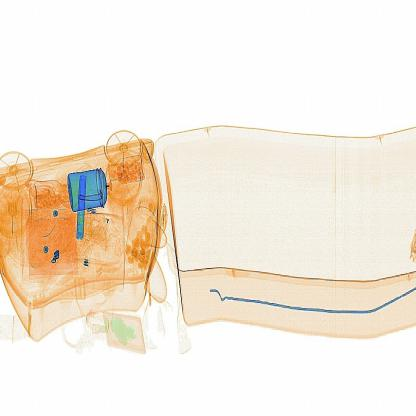pliers: (69, 172, 100, 242)
